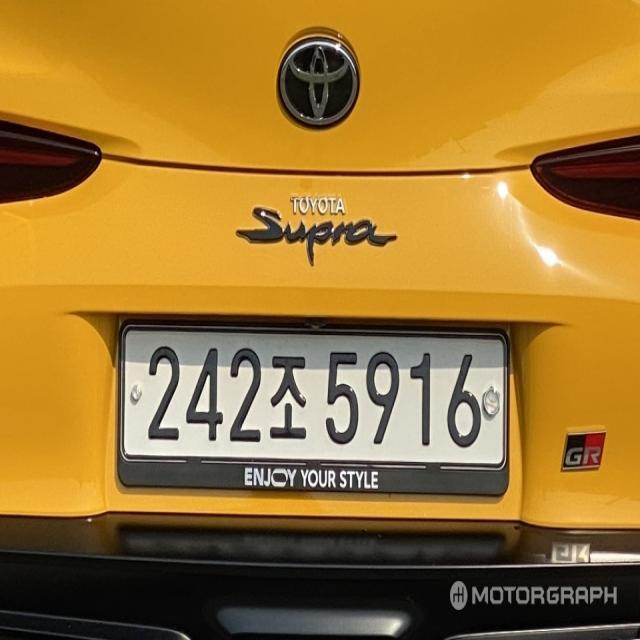car: (75, 277, 570, 545)
